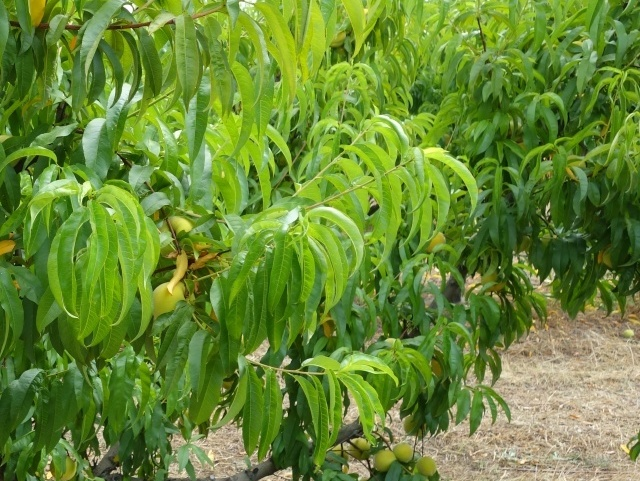peach: (147, 274, 201, 323), (156, 209, 200, 244), (370, 445, 398, 474), (48, 454, 78, 481), (398, 415, 428, 441), (347, 434, 374, 461), (390, 439, 414, 468), (424, 228, 448, 253)
